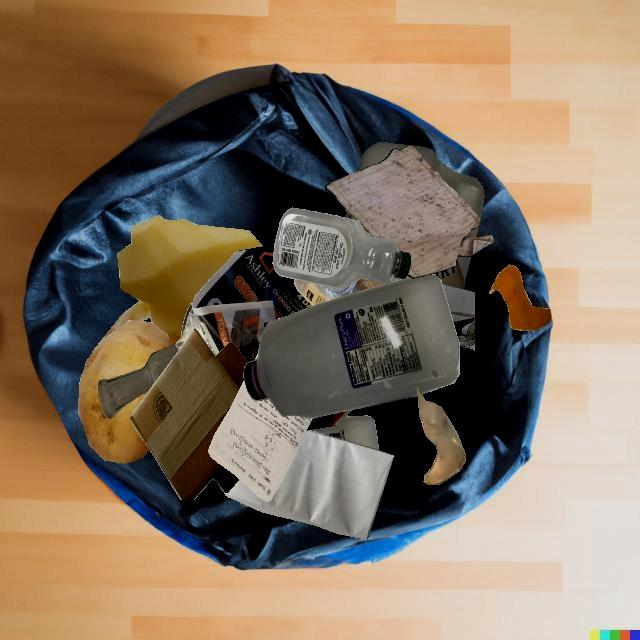biowaste: (92, 215, 263, 353), (78, 320, 171, 464), (489, 264, 551, 330), (364, 229, 371, 237)
cardboard: (130, 329, 248, 500)
glass: (98, 344, 179, 419), (417, 388, 466, 485), (181, 300, 205, 338)
paper: (325, 146, 494, 278), (224, 430, 394, 539), (191, 246, 313, 362), (208, 380, 311, 501), (255, 319, 310, 417), (394, 277, 460, 345), (432, 257, 475, 351), (175, 312, 216, 355)
plastic: (244, 274, 460, 418), (354, 171, 477, 281), (273, 207, 411, 290), (358, 142, 484, 219), (224, 430, 309, 507), (294, 279, 384, 306), (309, 416, 379, 450)
